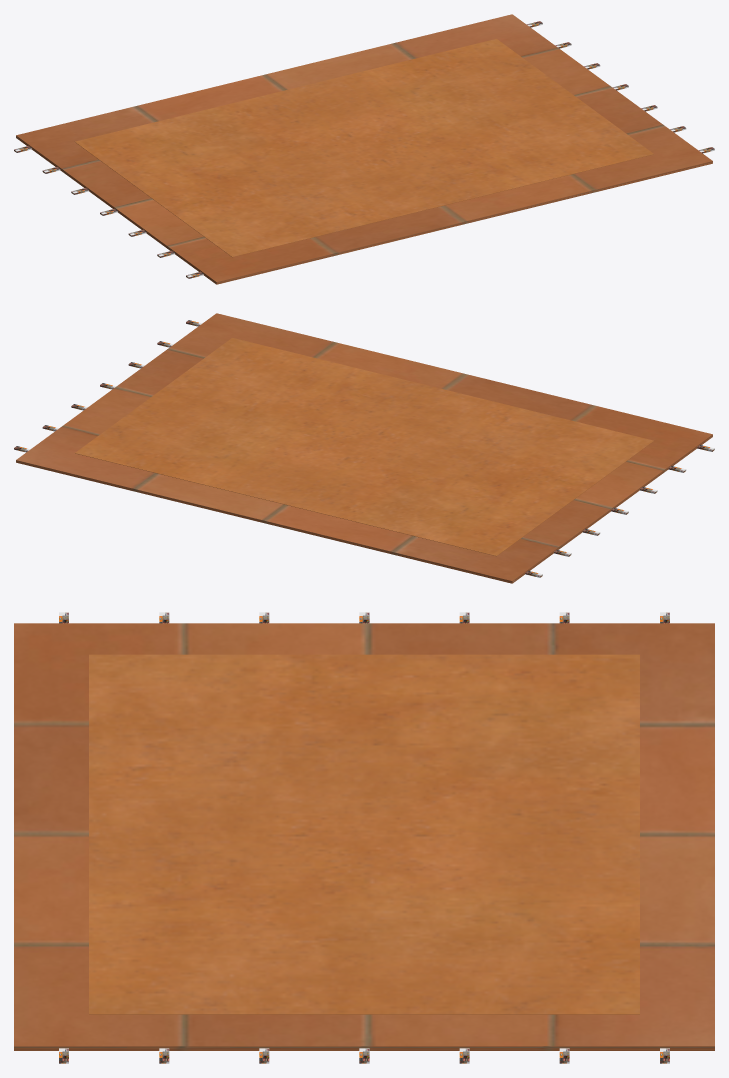
The model's file is Rug.fbx.
3 views of the same model, one above another, from view 1: azimuth 30°, elevation 25°; view 2: azimuth 150°, elevation 25°; view 3: azimuth 270°, elevation 25° (orthographic). The views are drawn at different scales.
Visible parts, largest first — view 1: Rug; view 2: Rug; view 3: Rug.
Part boxes in pixels (x1,y1,x2,y2): Rug: [14, 14, 714, 284]; Rug: [14, 313, 714, 583]; Rug: [14, 612, 714, 1063].
Size of the model in its own units: 2.12 by 0.011 by 1.4.
